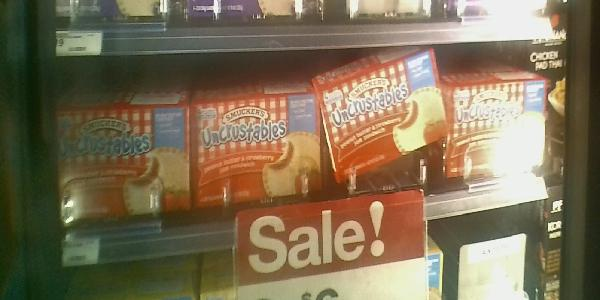icecream: (317, 46, 447, 195), (53, 100, 193, 225), (191, 90, 328, 213), (446, 67, 550, 185)
